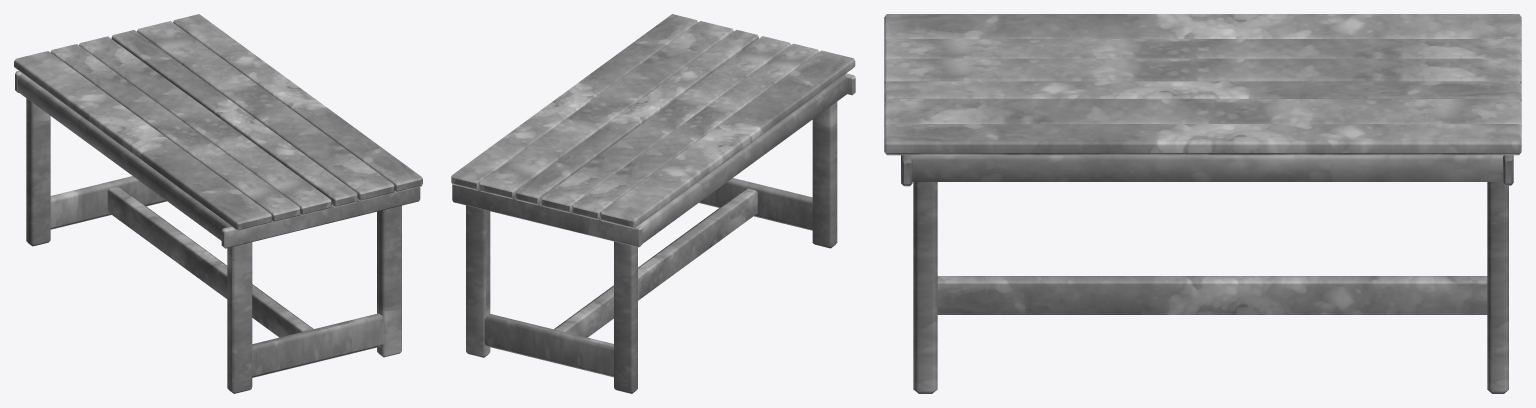
File: SM_WoodTable_02a.fbx
3 renders of one model, left to right at view 1: azimuth 30°, elevation 25°; view 2: azimuth 150°, elevation 25°; view 3: azimuth 270°, elevation 25°, orthographic. The views are drawn at different scales.
Visible parts, largest first — view 1: SM_WoodTable_02a_LOD0; view 2: SM_WoodTable_02a_LOD0; view 3: SM_WoodTable_02a_LOD0.
Part boxes in pixels (x1,y1,x2,y2): SM_WoodTable_02a_LOD0: [14, 14, 422, 393]; SM_WoodTable_02a_LOD0: [451, 14, 855, 393]; SM_WoodTable_02a_LOD0: [884, 14, 1521, 393].
Size of the model in its own units: 89.28 by 176 by 79.34.
